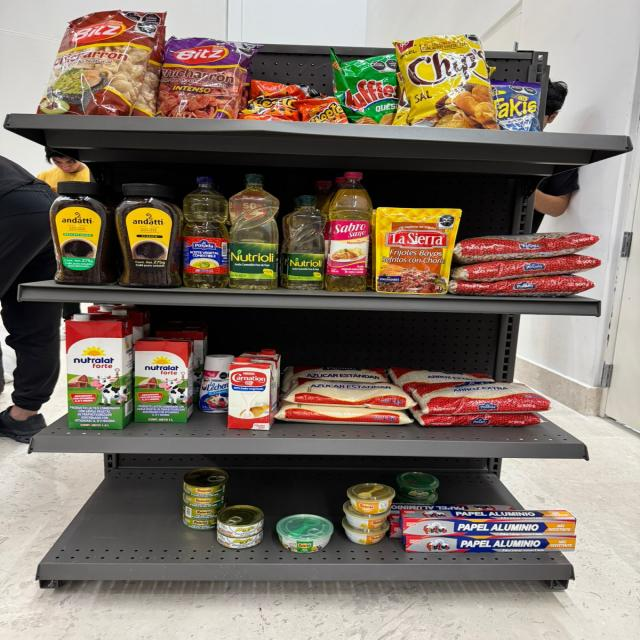ACEITE NUTRIOLI 400 ML: (281, 195, 326, 290), (287, 196, 325, 290)
ACEITE VEGETAL LA POSADA 800 ML: (182, 177, 229, 288)
ATUN DOLORES EN ACEITE 130GRS: (182, 468, 228, 497), (182, 491, 227, 508), (182, 502, 226, 519), (182, 515, 217, 531)
Aceite Comestible Nutrioli 850ml: (229, 174, 278, 290)
Aceite Sabrosano 850ml: (325, 172, 372, 291), (321, 177, 345, 219), (316, 180, 332, 209)
Arroz La Posada 900 gr: (405, 381, 556, 415), (387, 367, 495, 401), (409, 404, 546, 427), (88, 304, 140, 313)
Atun Mazatun Agua Sin Soya 130grs: (217, 505, 264, 537), (216, 530, 263, 549)
Azucar Estandar La Posada 1 kg: (284, 378, 417, 411), (274, 397, 414, 425), (283, 366, 389, 393)
CAFE SOLUBLE ANDATTI DESCAFEINADO 275G: (50, 182, 116, 284)
CARNATION Leche Evaporada 720g: (227, 357, 277, 431), (238, 348, 280, 409)
CHEETOS TORCIDITOS 240GR: (291, 96, 349, 124)
Cafe Soluble Andatti 275g: (115, 184, 184, 287)
Cheetos grandes: (236, 79, 326, 121)
Chicharron de Cerdo Natural Bitz 120 gr: (37, 10, 166, 116)
DOLORES ENSALADA CON VERDURAS MAXI CUP CAN 240gr: (276, 514, 333, 553)
Dolores SURFY Cup Can Elotitos 24135 gr: (343, 500, 391, 531), (347, 483, 395, 514), (341, 516, 389, 544)
Ensalada Atun Mazatun CupCan: (396, 472, 439, 499), (396, 490, 438, 504)
Frijol La Sierra Chorizo 430 bolsa: (373, 207, 461, 295)
Frijol Pinto La Posada 900gr: (453, 232, 598, 264), (451, 254, 600, 282), (449, 275, 594, 296)
La Lechera Sirve Facil 335gr Bote: (199, 355, 234, 412)
PLC NUTRALAT FORTE 1 LT: (135, 337, 194, 423), (156, 328, 206, 403)
PLC NUTRALAT FORTE 1.5 LT: (66, 314, 134, 430), (94, 305, 149, 359), (90, 309, 133, 321)
Papas Chips Barcel 170 gr bolsa con sal: (391, 34, 512, 131), (392, 72, 410, 125)
Papel aluminio festivo rollo 76 m X 30 cm pz: (399, 509, 576, 535), (401, 533, 577, 552), (389, 503, 516, 523), (389, 523, 402, 540)
RUFFLES QUESO 185GR: (330, 46, 399, 125)
Takis Blue 75g: (491, 80, 541, 131)
chicharrones de cerdo intenso: (157, 38, 258, 119)
